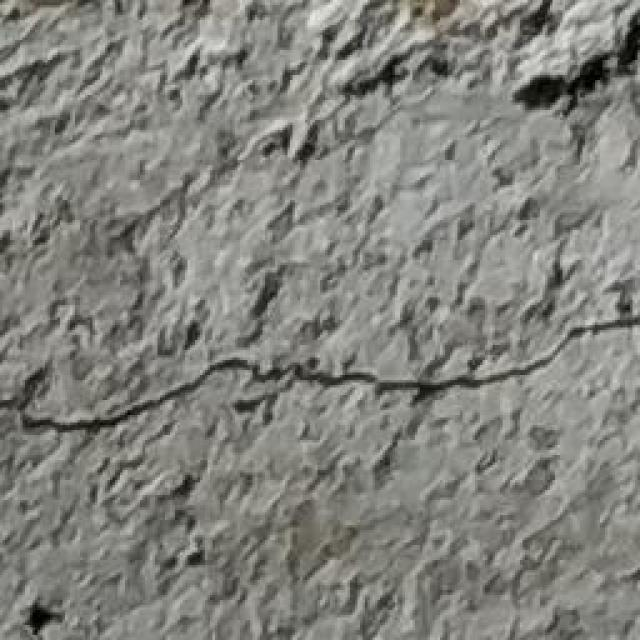Transverse: (7, 293, 640, 440)
